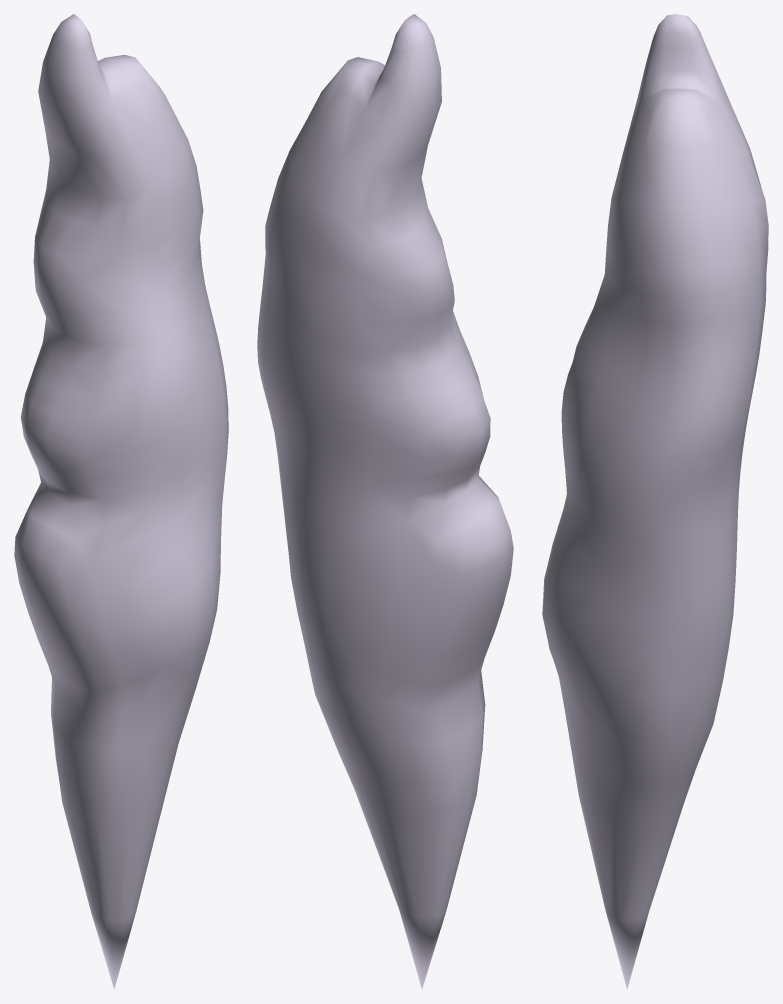
Rendered from Bush_03.fbx.
The picture shows the model from 3 angles, left to right: view 1: azimuth 30°, elevation 25°; view 2: azimuth 150°, elevation 25°; view 3: azimuth 270°, elevation 25°; orthographic projection. The views are drawn at different scales.
Visible parts, largest first — view 1: Bush_03; view 2: Bush_03; view 3: Bush_03.
Part boxes in pixels (bbox=[...]): Bush_03: bbox=[14, 14, 228, 989]; Bush_03: bbox=[257, 14, 513, 989]; Bush_03: bbox=[542, 14, 768, 989].
Size of the model in its own units: 81.29 by 353 by 74.7.
